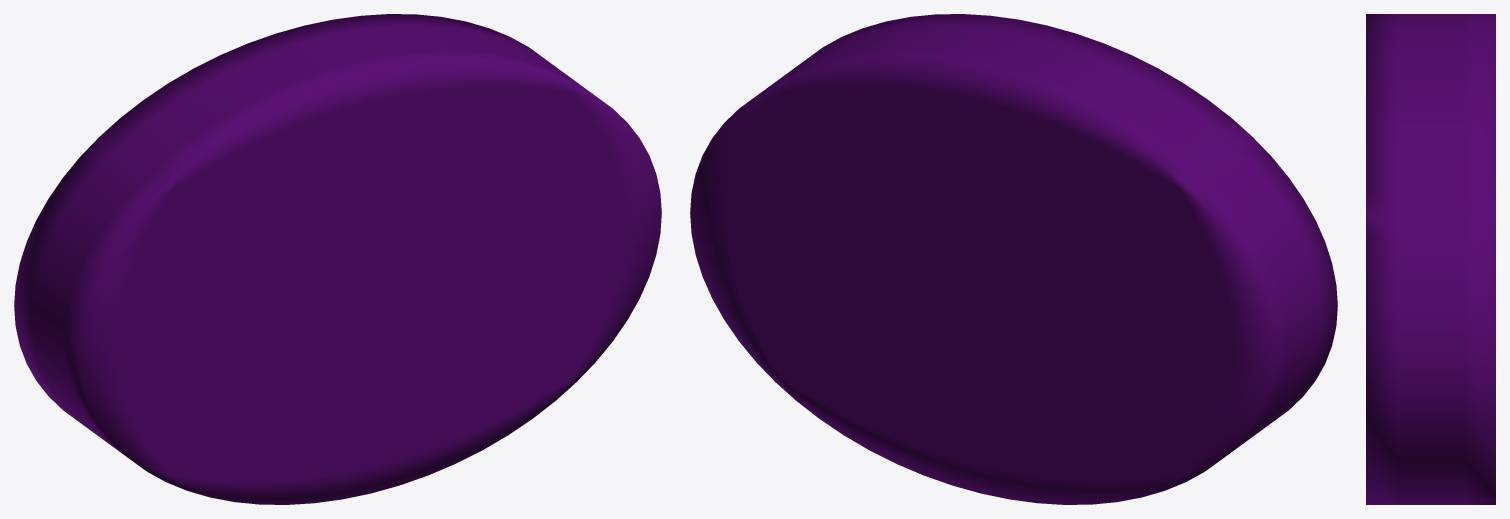
File: oval.obj
3 renders of one model, left to right at view 1: azimuth 30°, elevation 25°; view 2: azimuth 150°, elevation 25°; view 3: azimuth 270°, elevation 25°, orthographic. The views are drawn at different scales.
Visible parts, largest first — view 1: Oval; view 2: Oval; view 3: Oval.
Boxes of the visible parts, x1=… form: Oval: x1=14, y1=14, x2=661, y2=504; Oval: x1=690, y1=14, x2=1337, y2=504; Oval: x1=1366, y1=14, x2=1495, y2=504.
Bounding box in the file's own units: 2.75 × 1.89 × 0.5469.
